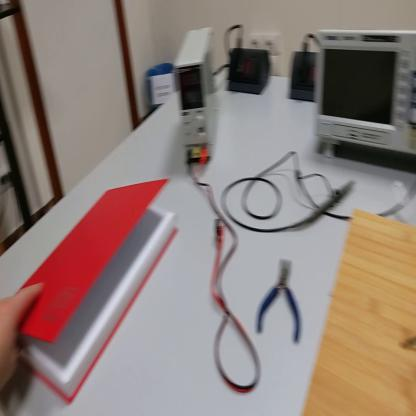hand: (1, 280, 45, 399)
oscilloscope: (317, 29, 416, 175)
pliers: (257, 259, 301, 343)
power supply: (175, 31, 220, 162)
register: (7, 180, 173, 409)
socket: (226, 47, 273, 96), (289, 50, 317, 102)
working area: (304, 210, 416, 416)
